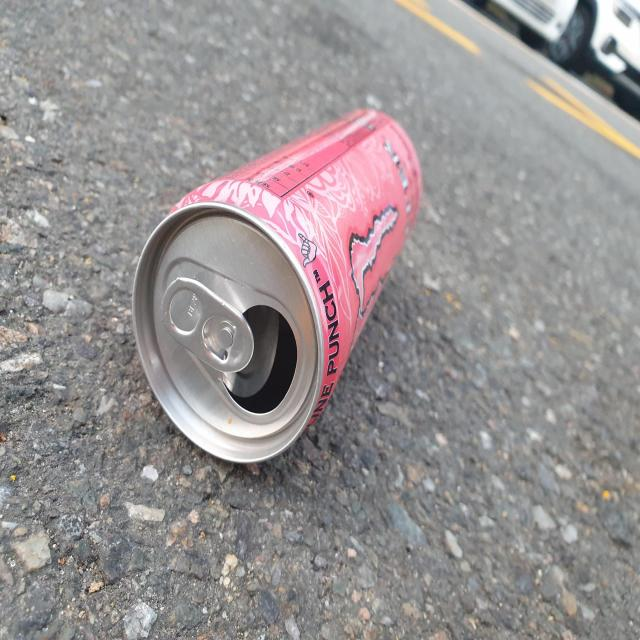can: (132, 109, 422, 463)
